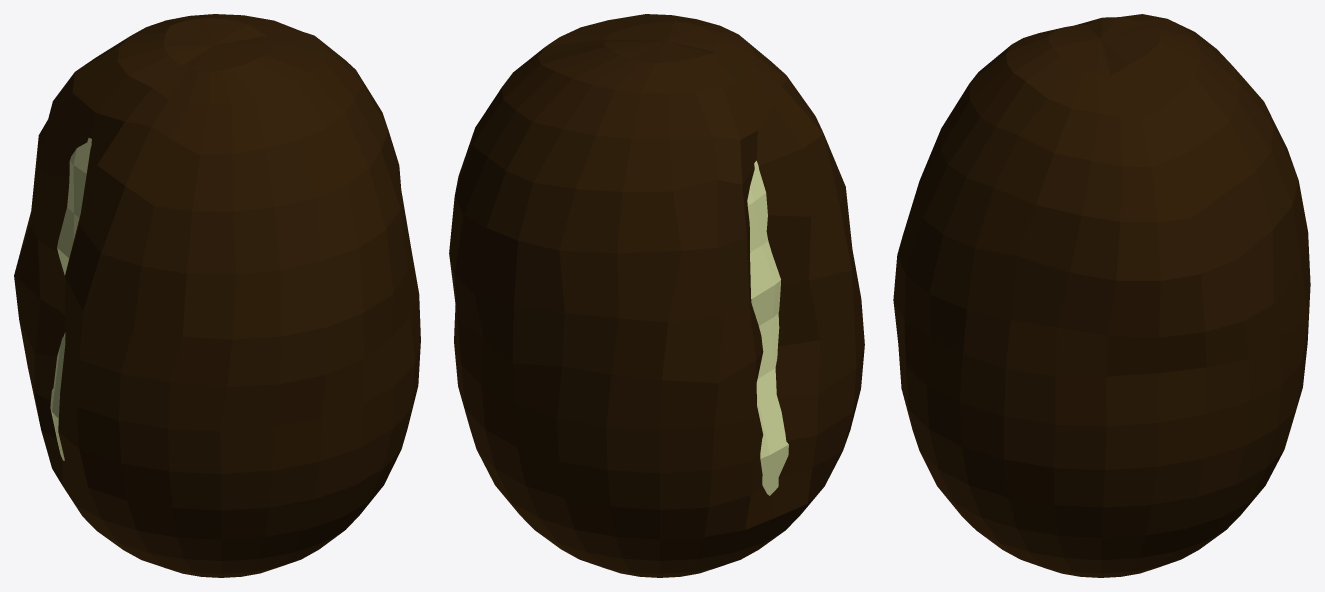
3 views of the same model, side by side, from view 1: azimuth 30°, elevation 25°; view 2: azimuth 150°, elevation 25°; view 3: azimuth 270°, elevation 25° (orthographic).
Parts seen in each view (by area): view 1: Sphere, Sphere.001; view 2: Sphere, Sphere.001; view 3: Sphere.
Part boxes in pixels (x1=…): Sphere: x1=14, y1=14, x2=420, y2=577; Sphere.001: x1=50, y1=138, x2=91, y2=460; Sphere: x1=449, y1=14, x2=864, y2=577; Sphere.001: x1=747, y1=160, x2=788, y2=495; Sphere: x1=893, y1=14, x2=1310, y2=577.
Bounding box in the file's own units: 19.57 × 28.17 × 20.42.
